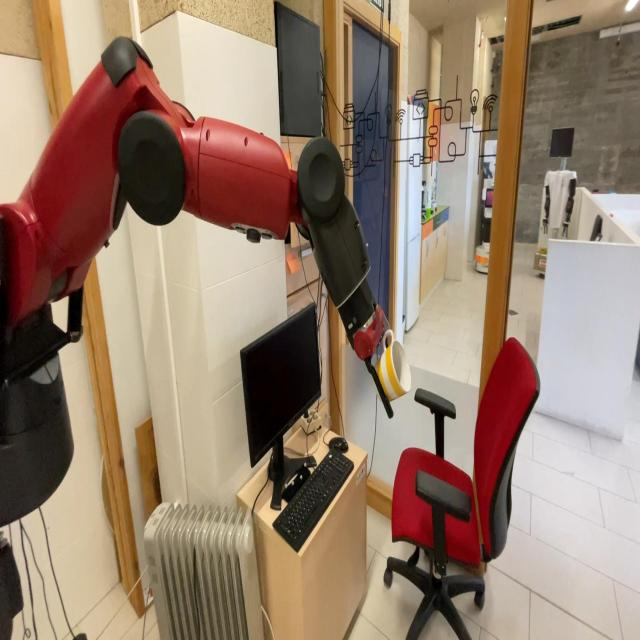cup: (372, 331, 413, 405)
